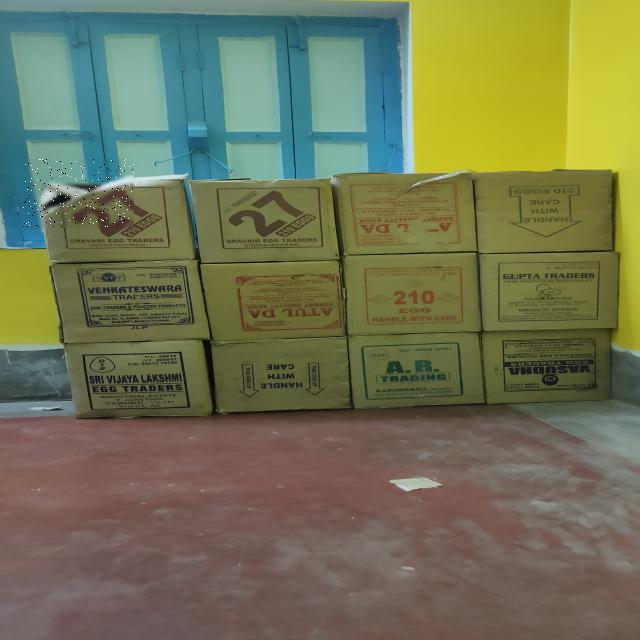squeeze: (24, 160, 134, 227)
